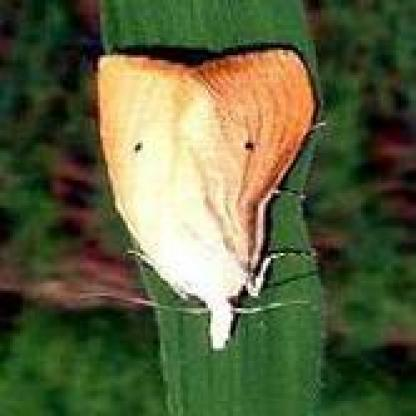stem-borer: (96, 40, 325, 358)
